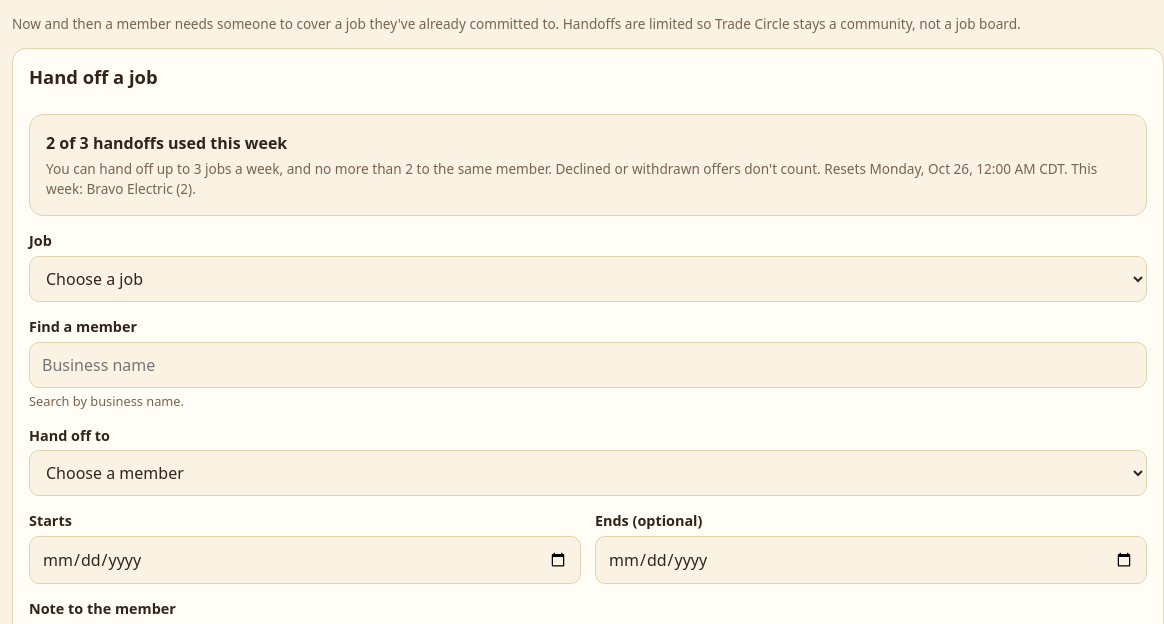
Scenario: Handoffs › stops a third handoff to the same member
Select "Bravo Electric · Electrician, Austin" in the dropdown labelled "Hand off to" at point(588, 473), box x1=29 y1=450 x2=1147 y2=496
(page scrolled)
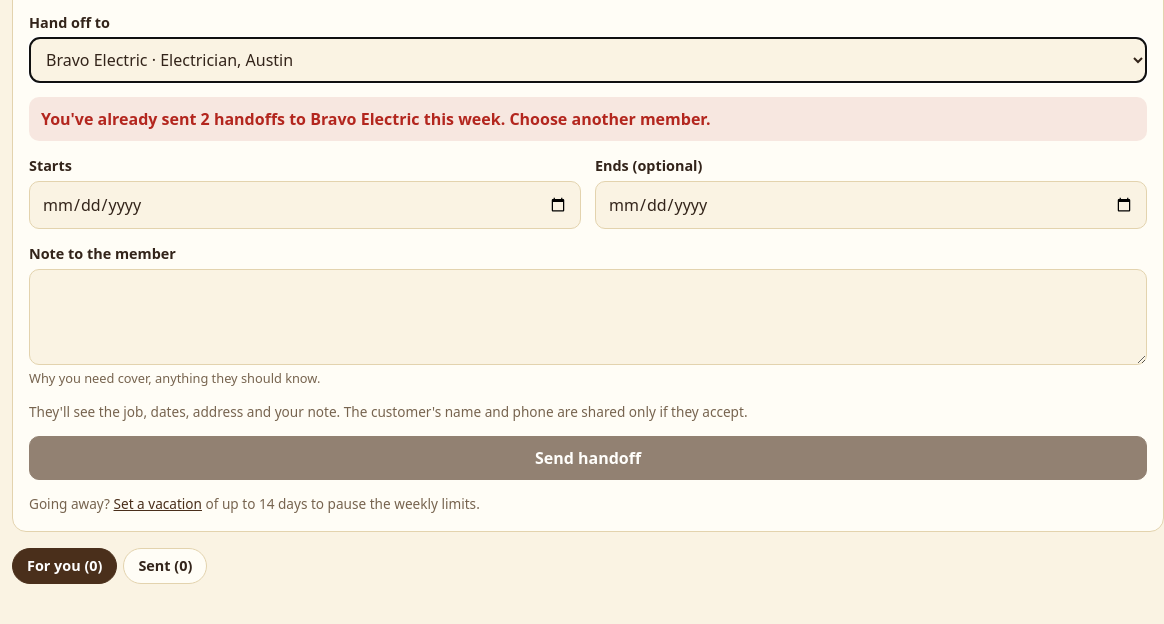
Result: the text "already sent 2 handoffs to Bravo Electric" is shown at x1=29 y1=97 x2=1147 y2=141
Result: the button "Send handoff" is disabled at x1=29 y1=436 x2=1147 y2=480
